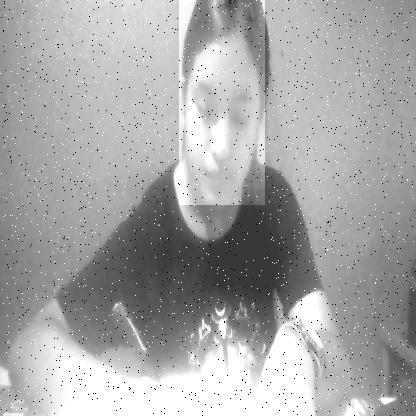Normal: (179, 0, 265, 205)
